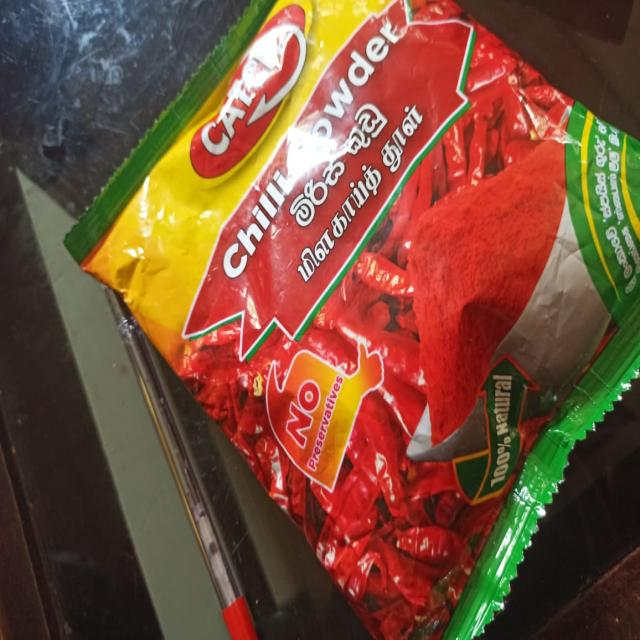Chilli Powder: (30, 1, 640, 640)
